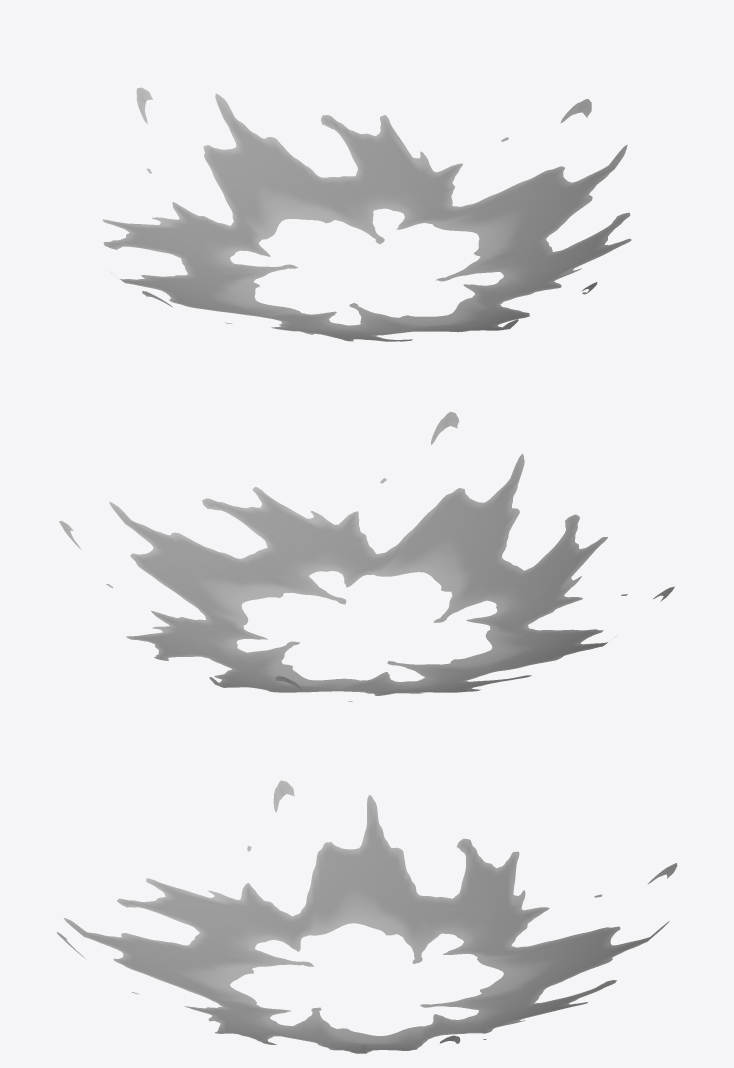
File: yanchen_p.FBX
The picture shows the model from 3 angles, top to bottom: view 1: azimuth 30°, elevation 25°; view 2: azimuth 150°, elevation 25°; view 3: azimuth 270°, elevation 25°; orthographic projection.
Parts seen in each view (by area): view 1: Sphere01; view 2: Sphere01; view 3: Sphere01.
Boxes of the visible parts, left/top/right/bottom form: Sphere01: left=102, top=87, right=631, bottom=341; Sphere01: left=59, top=411, right=674, bottom=701; Sphere01: left=56, top=780, right=677, bottom=1053.
Bounding box in the file's own units: 43.18 × 7.93 × 44.29.
